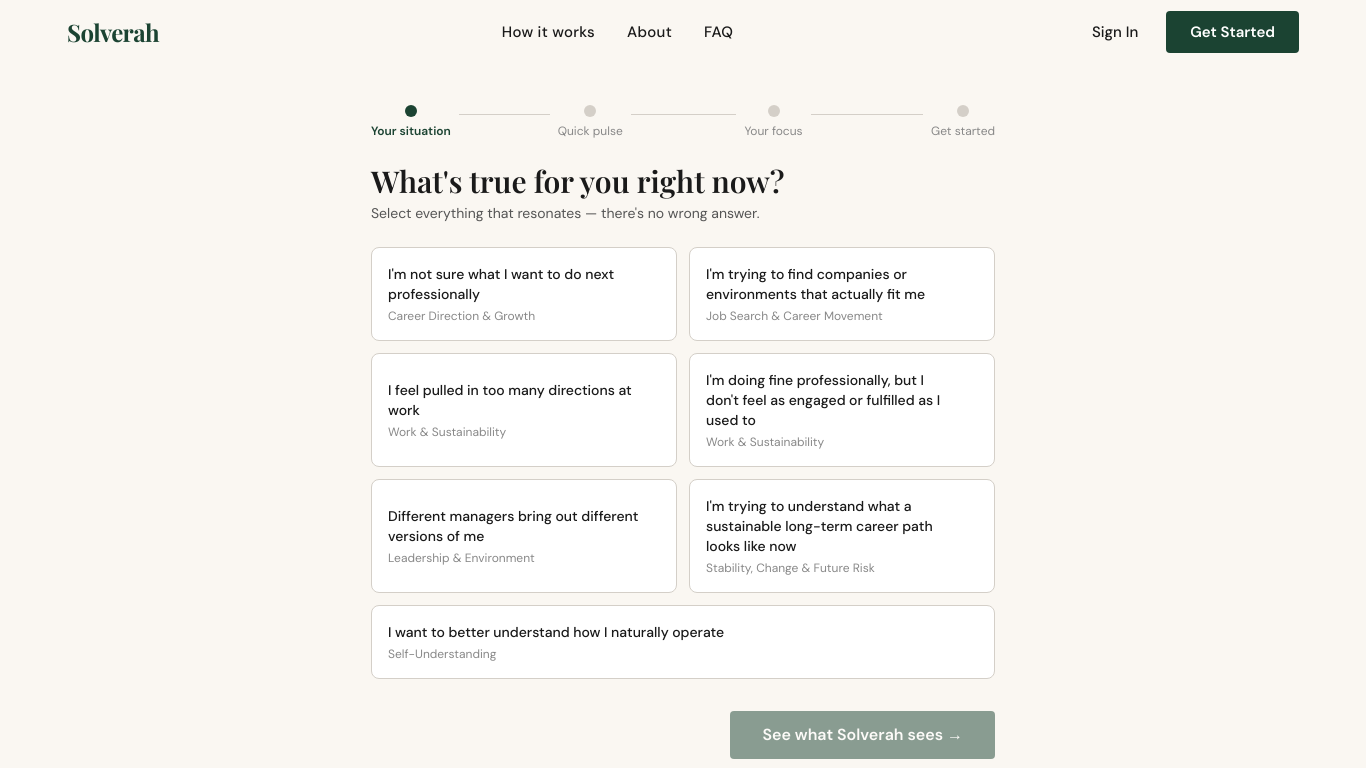
Test: CareerIntakePage — Step 1: Statement selection › clicking the CTA on step 1 advances to step 2
The width and height of the screenshot is (1366, 768).
Click the 1st checkbox at (501, 274), box 371,247 -> 677,341
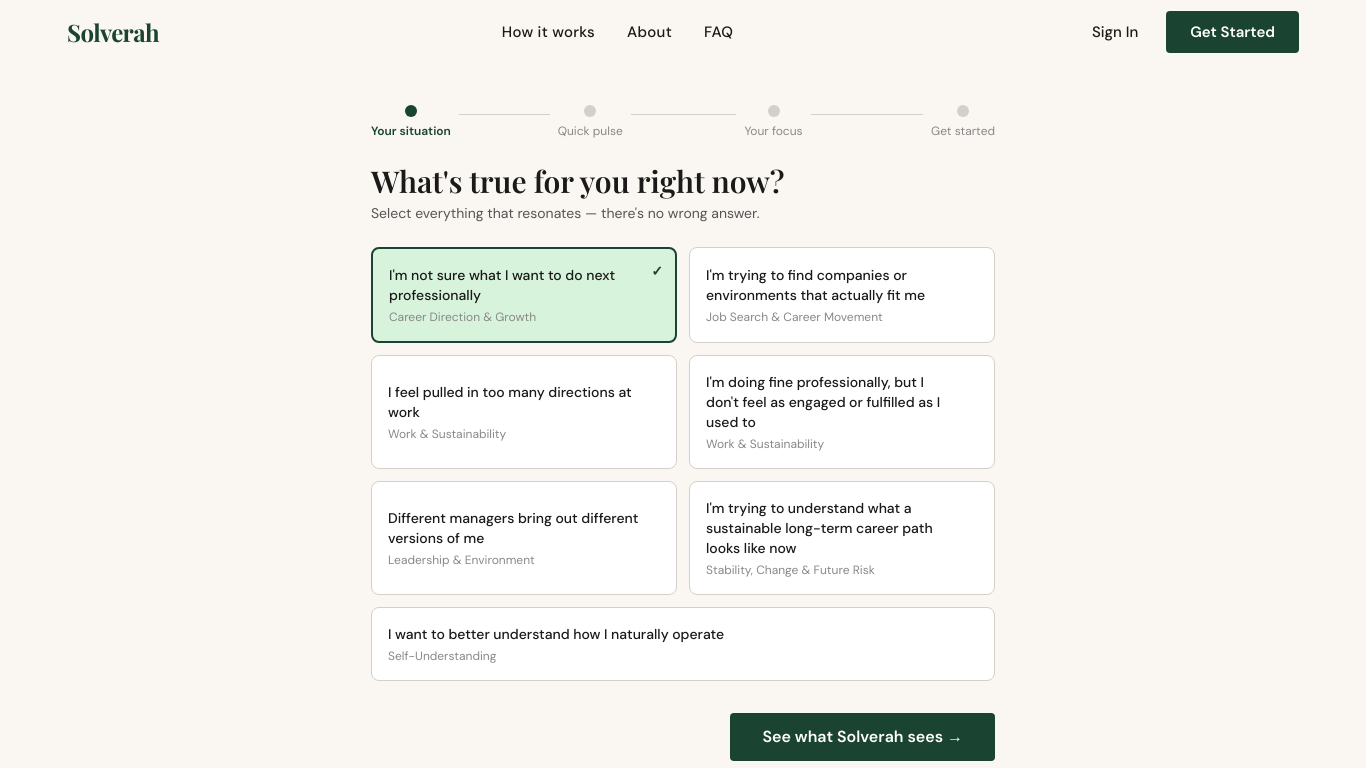
Click the button "See what Solverah sees →" at (863, 737), box 730,713 -> 995,761
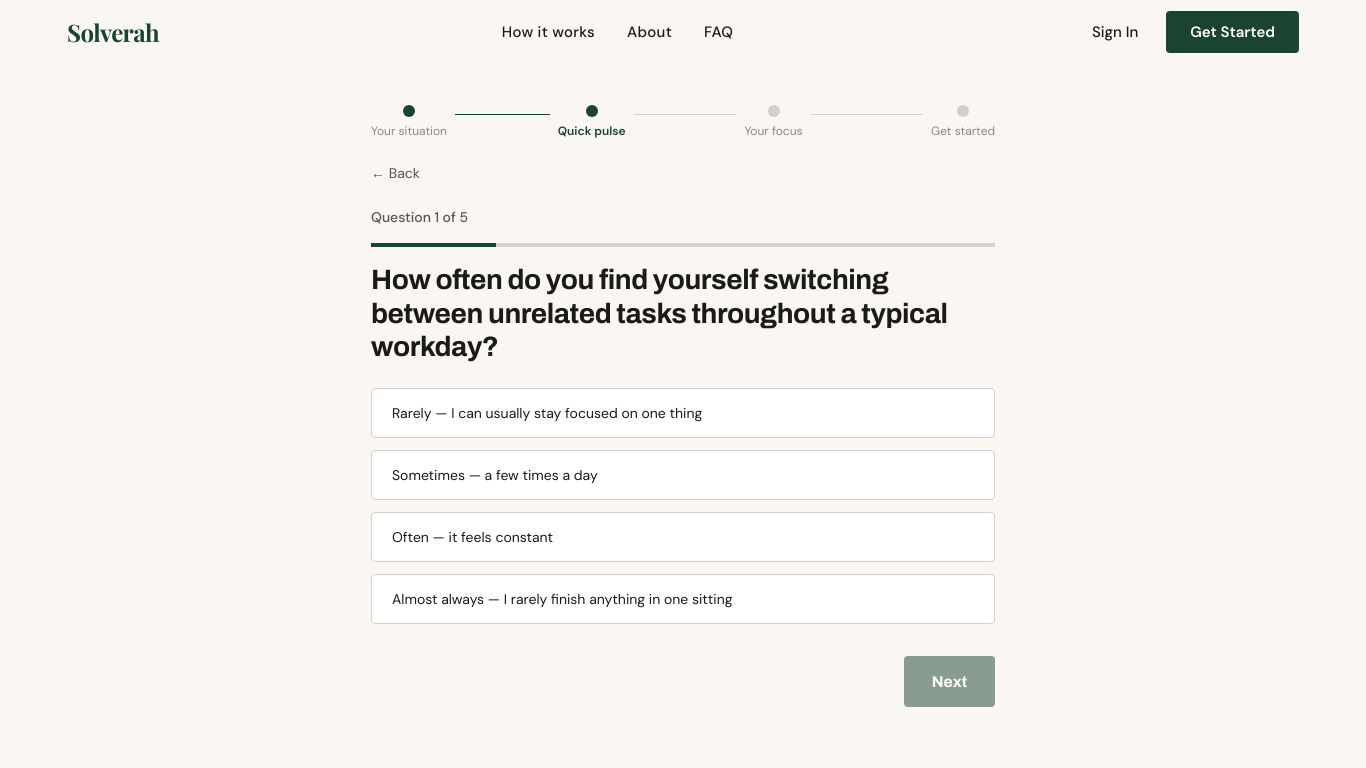
Check: the text "Question 1 of 5" is shown, box 371,208 -> 468,226
